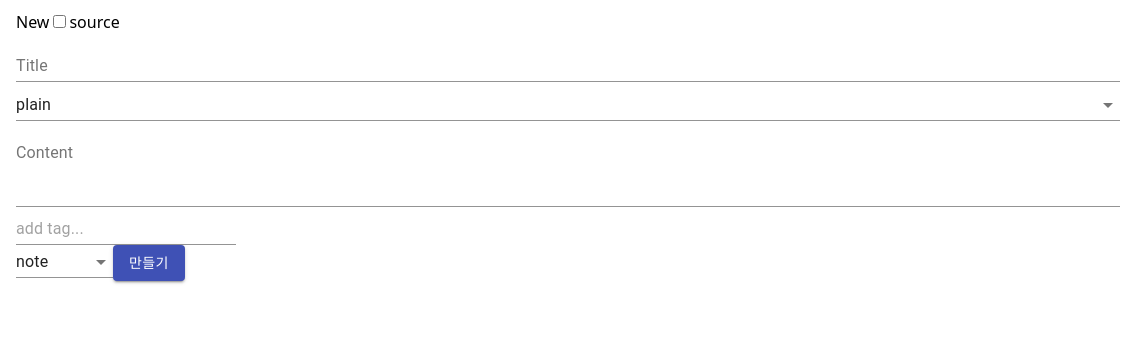
Scenario: <SmallEditor /> › can add source to note
Click the checkbox labelled "source" at coordinates (60, 22), box [54, 15, 66, 28]
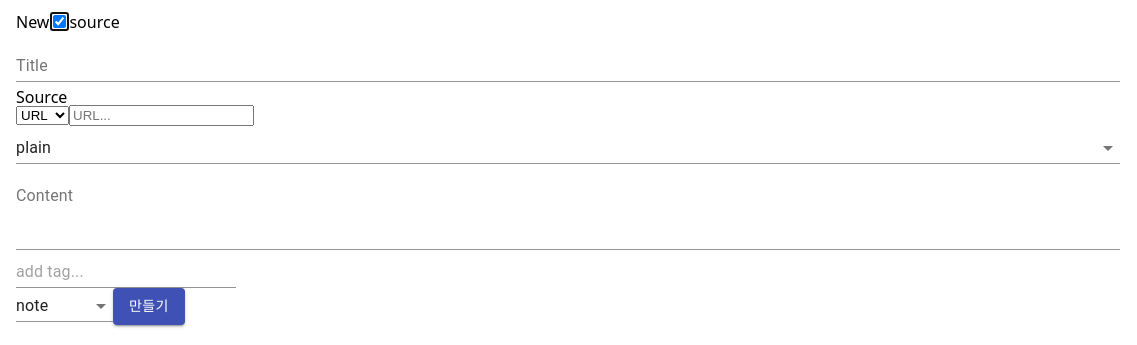
Expected: the 1st dropdown named "meta.source.type" is shown, [16, 106, 69, 125]
